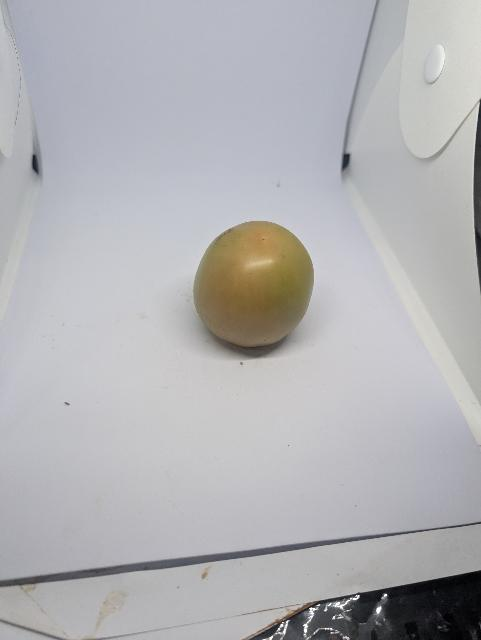breaker: (194, 210, 317, 357)
